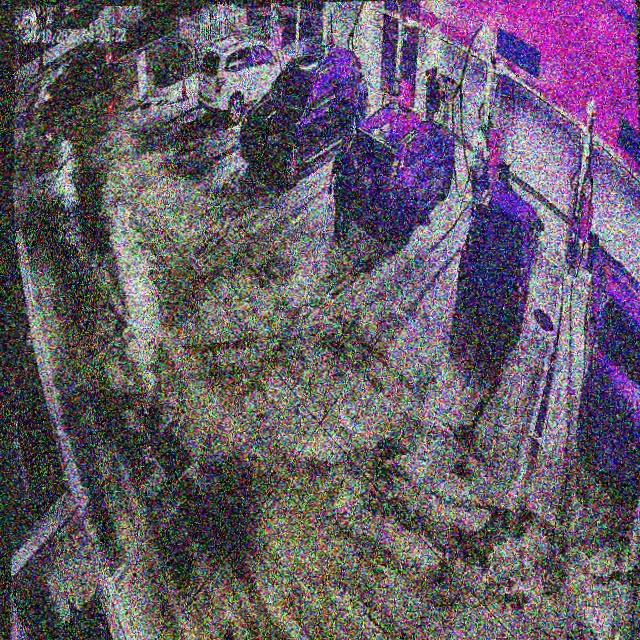Car: (240, 45, 371, 186), (334, 101, 457, 242), (455, 179, 545, 335)
